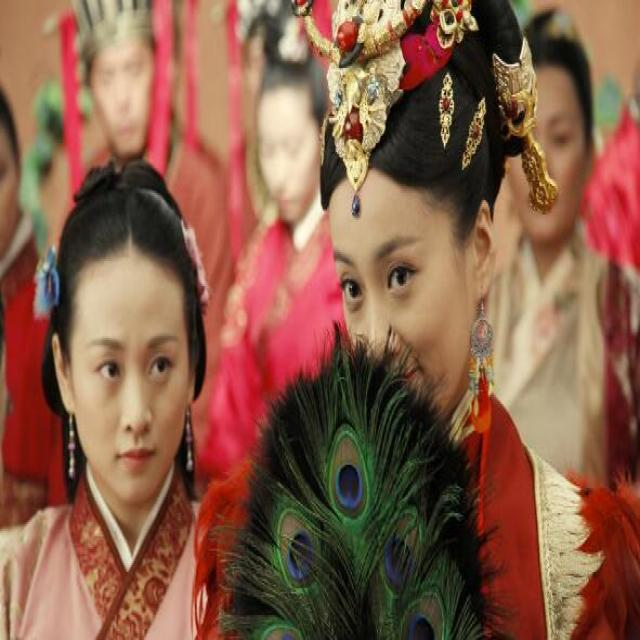nomask: (329, 162, 455, 414), (75, 269, 183, 500), (504, 65, 584, 235), (94, 36, 157, 157), (259, 99, 319, 224)
